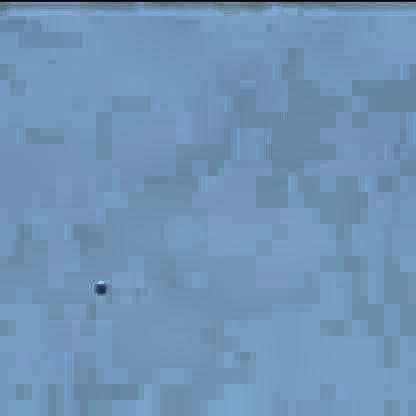golfball: (92, 277, 105, 293)
